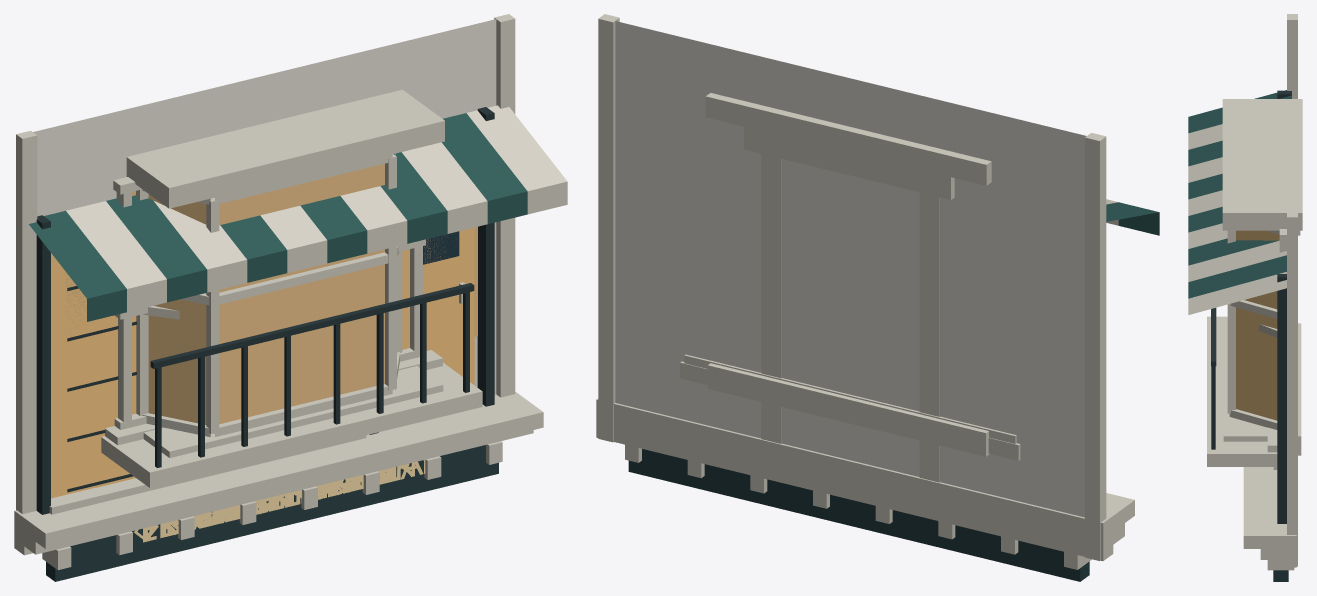
File: facades.glb
3 renders of one model, left to right at view 1: azimuth 30°, elevation 25°; view 2: azimuth 150°, elevation 25°; view 3: azimuth 270°, elevation 25°, orthographic. The views are drawn at different scales.
Visible parts, largest first — view 1: bay_a, shop_a, cornice_a, sash_b, sign_0, bay_b, sash_a, far_shop, cornice_b, garage_a, Letters 0, Letters 4; view 2: bay_a, cornice_a, entry_a, bay_b, sign_0, cornice_b, sash_b, shop_a, sash_a; view 3: bay_a, shop_a, bay_b, sash_b, cornice_a, sash_a, cornice_b, sign_0.
Part boxes in pixels (x1,y1,x2,y2): bay_a: [16, 14, 515, 514]; shop_a: [29, 105, 567, 514]; cornice_a: [14, 392, 543, 555]; sash_b: [101, 283, 482, 487]; sign_0: [46, 445, 498, 581]; bay_b: [126, 89, 433, 446]; sash_a: [105, 177, 442, 445]; far_shop: [95, 315, 136, 487]; cornice_b: [42, 441, 502, 569]; garage_a: [65, 231, 465, 492]; Letters 0: [143, 462, 414, 540]; Letters 4: [143, 460, 425, 542]; bay_a: [598, 14, 1106, 560]; cornice_a: [596, 398, 1134, 560]; entry_a: [744, 127, 954, 482]; bay_b: [705, 93, 991, 456]; sign_0: [628, 449, 1089, 581]; cornice_b: [625, 444, 1091, 569]; sash_b: [680, 361, 1020, 460]; shop_a: [1106, 199, 1159, 235]; sash_a: [684, 354, 1016, 443]; bay_a: [1222, 14, 1301, 566]; shop_a: [1188, 90, 1291, 523]; bay_b: [1237, 99, 1302, 455]; sash_b: [1207, 308, 1277, 466]; cornice_a: [1243, 467, 1296, 567]; sash_a: [1267, 229, 1286, 452]; cornice_b: [1267, 560, 1294, 570]; sign_0: [1273, 570, 1288, 581].
Size of the model in its own units: 4.04 by 3.44 by 0.95.
